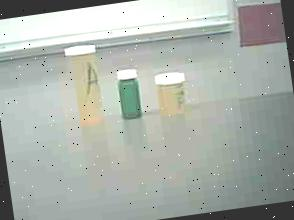Bottle A: (63, 36, 114, 132)
Bottle B: (151, 68, 190, 118)
Bottle C: (112, 64, 148, 123)
